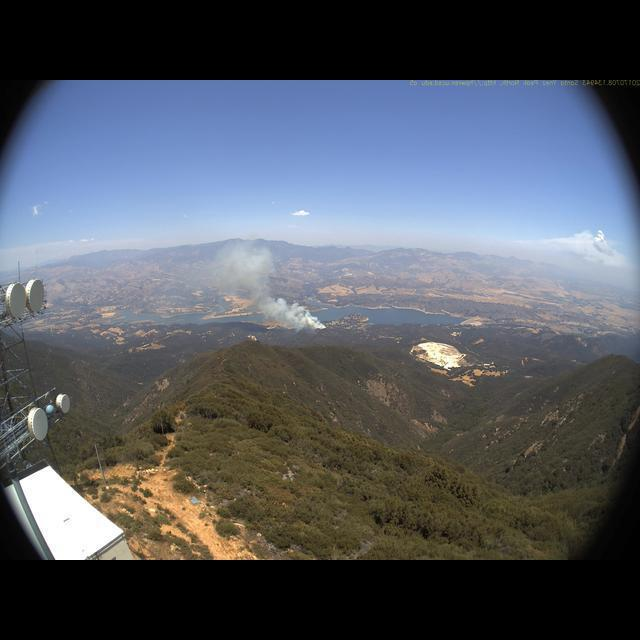Smoke: (198, 238, 331, 331)
